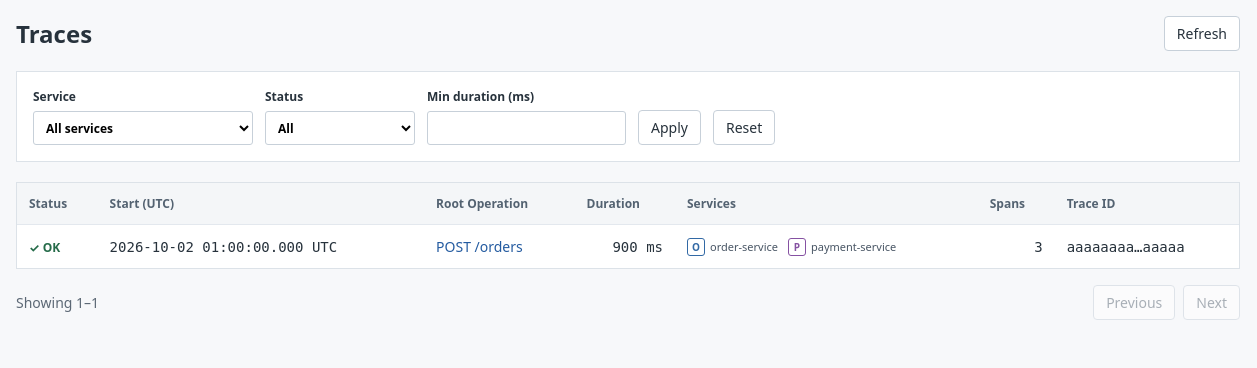
Test: Trace List › invalid duration shows inline error and sends no request
Expected: the link "POST /orders" is shown, x1=436 y1=237 x2=523 y2=256
Type "-1" into the field labelled "Min duration (ms)".
click(526, 128); type("-1")  # box x1=427 y1=111 x2=626 y2=145
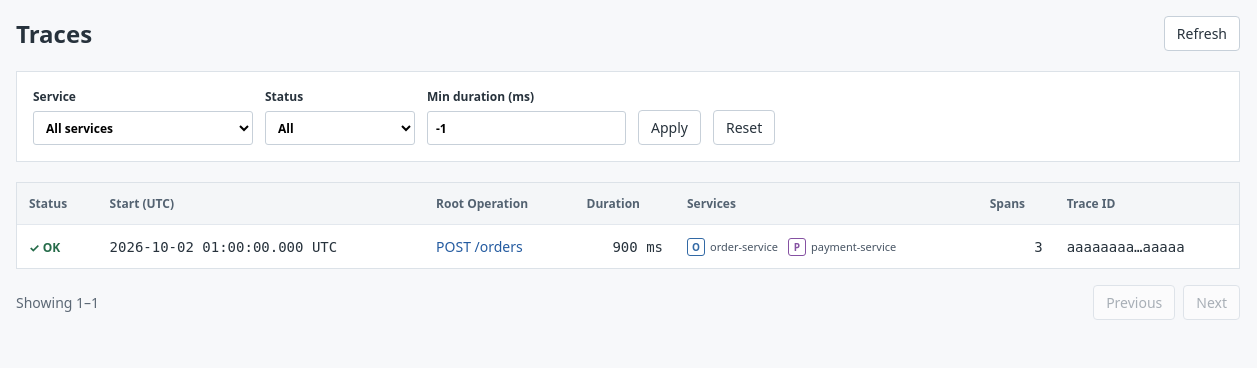
Click the button "Apply".
click(669, 128)  # box x1=638 y1=110 x2=701 y2=145
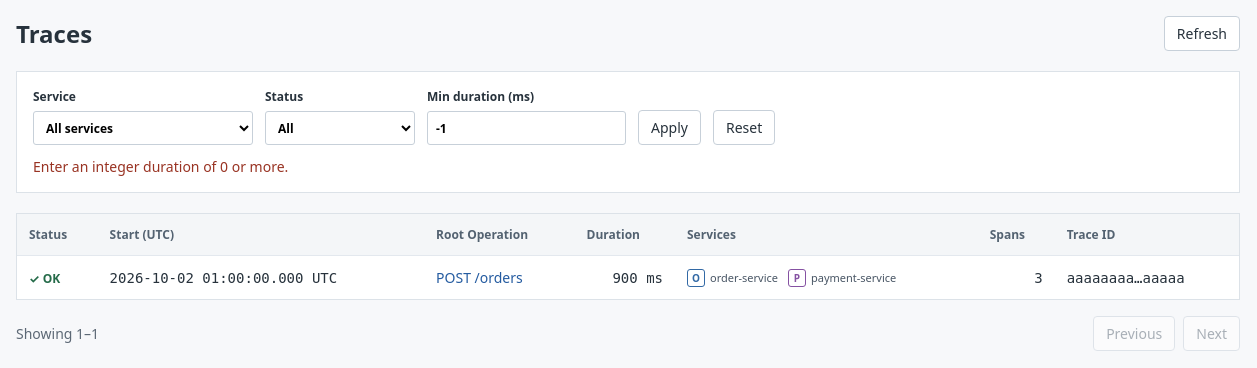
Result: the message shows "integer duration" at x1=33 y1=157 x2=288 y2=176
